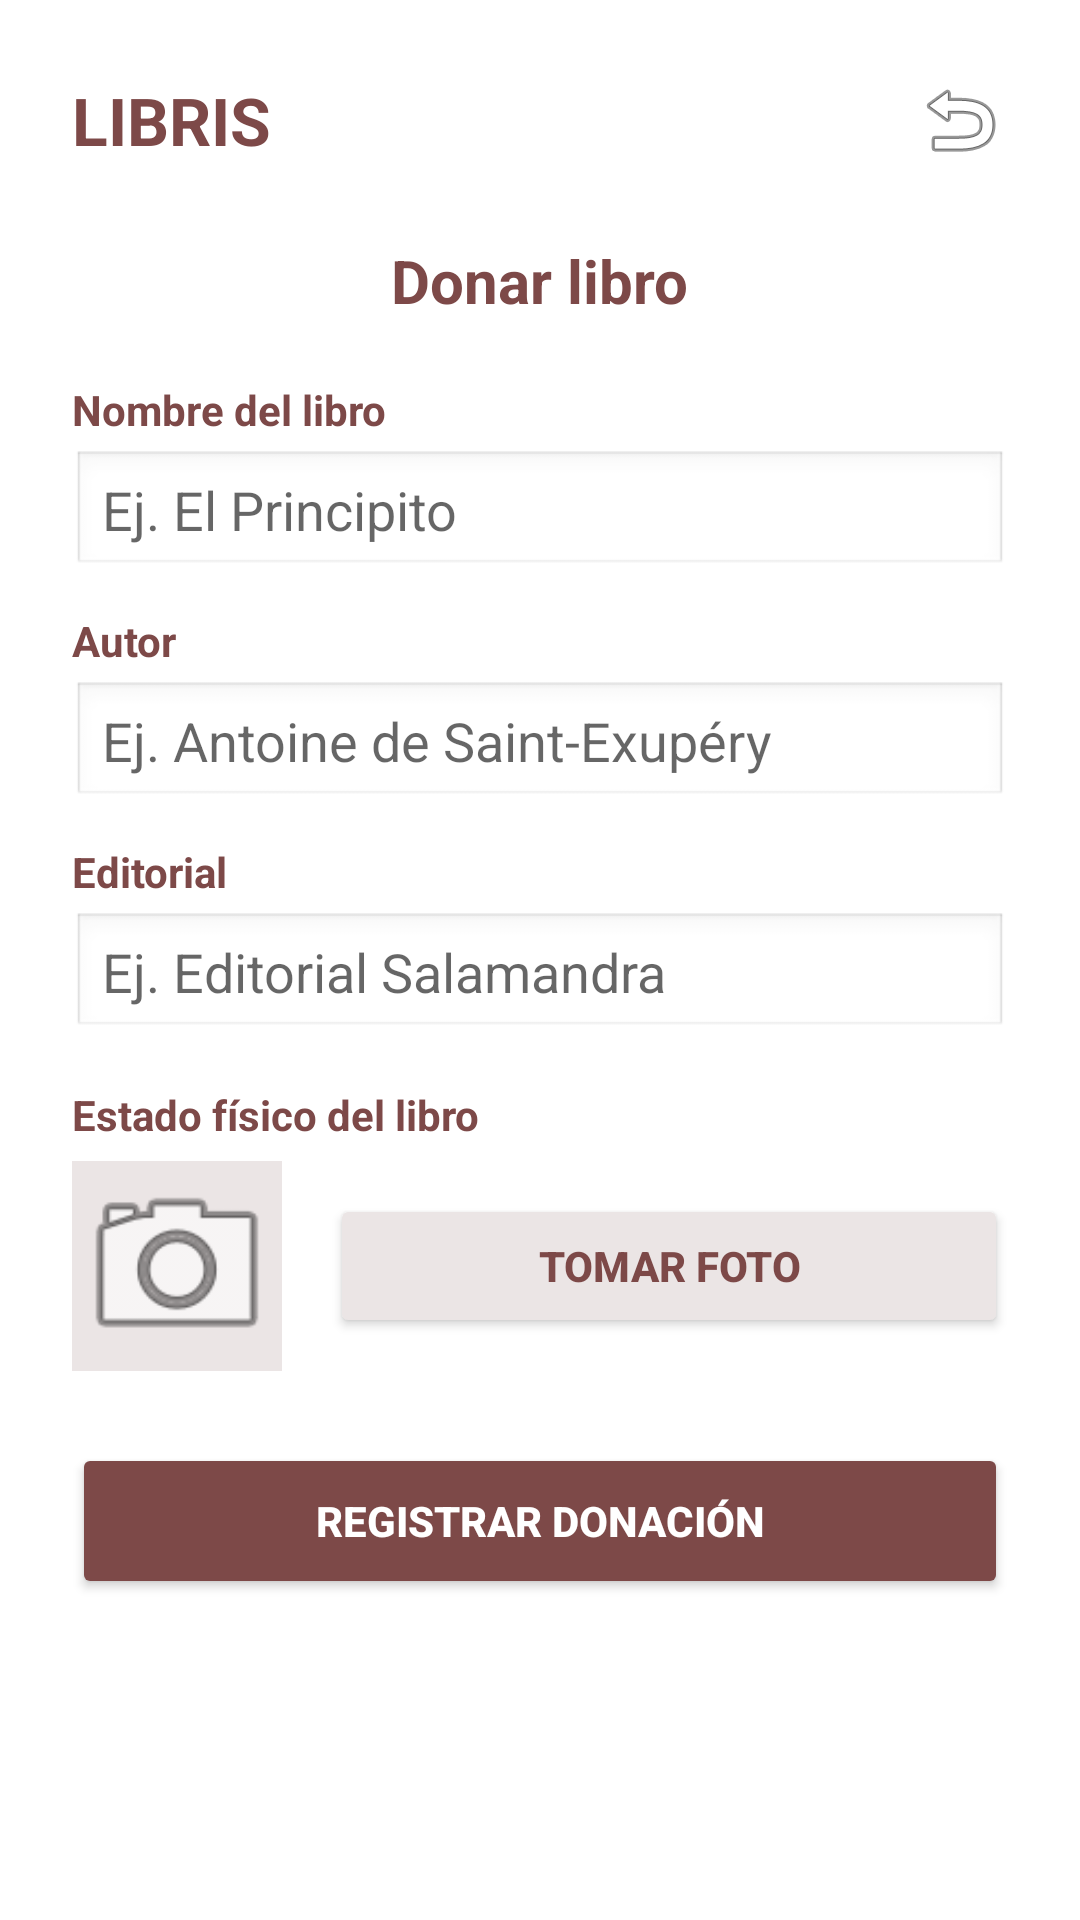

Where to tap for icons on this 1080px x 1920px app screen, as [x,y]:
Foto del estado: [177,1266]
Regresar: [961,120]
